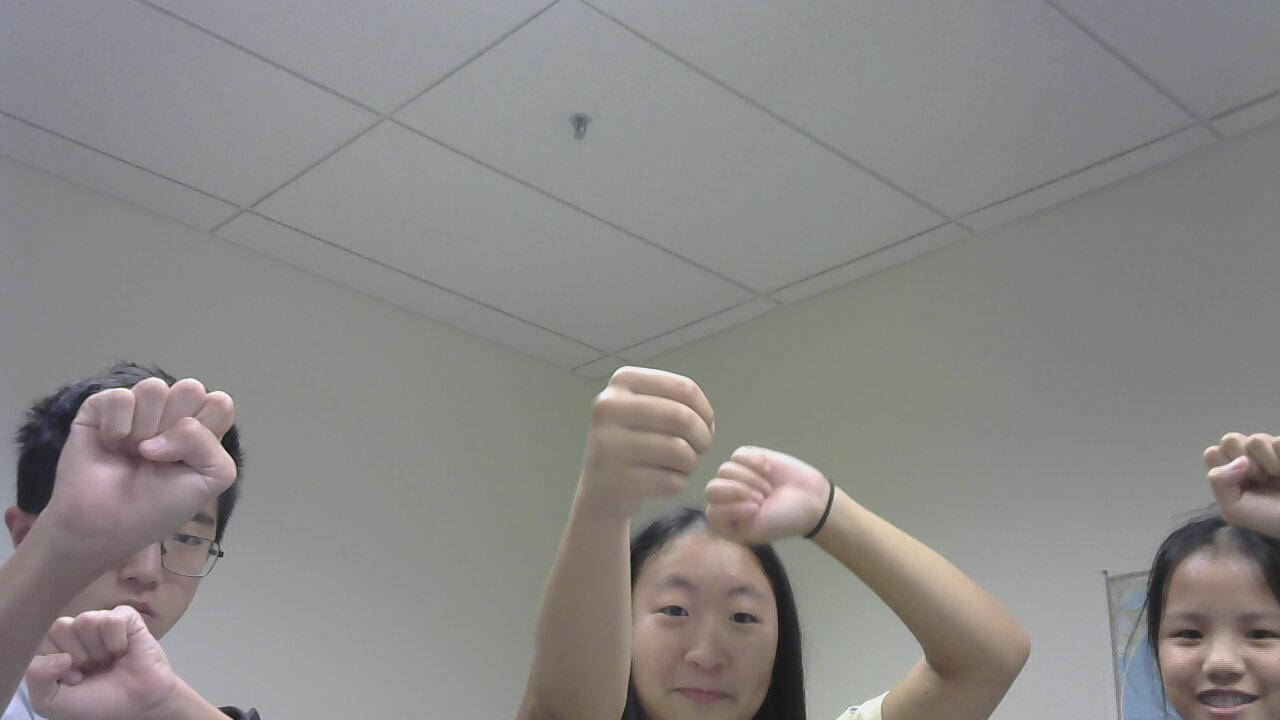fist: (31, 367, 287, 566), (556, 352, 722, 538), (3, 592, 232, 720), (690, 437, 876, 563), (1195, 406, 1280, 551)
